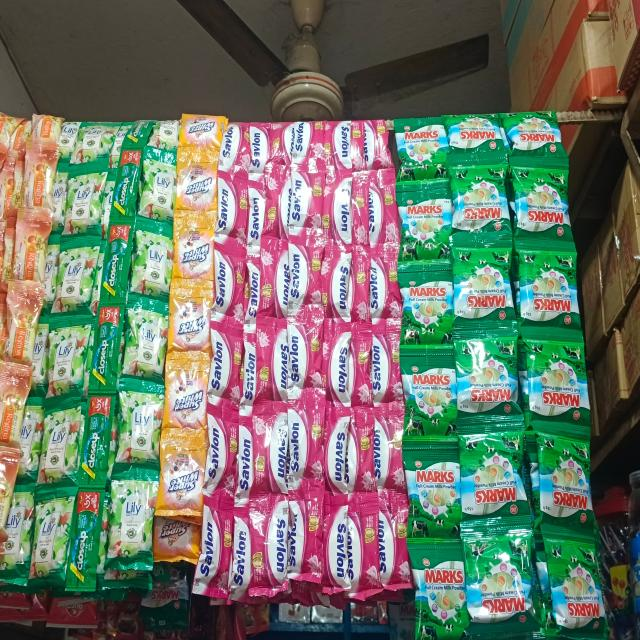non-ubl: (161, 343, 213, 423), (160, 429, 208, 511), (167, 276, 216, 350), (173, 146, 220, 222), (172, 207, 220, 280), (194, 504, 231, 598), (254, 504, 293, 593), (286, 406, 324, 486), (374, 506, 408, 590), (290, 323, 325, 400), (152, 513, 201, 564), (324, 512, 353, 596), (236, 422, 268, 498), (205, 419, 236, 495), (320, 255, 355, 322), (212, 253, 244, 325), (326, 414, 355, 493), (210, 334, 242, 405), (370, 331, 400, 405), (290, 173, 322, 239), (246, 182, 277, 250), (290, 243, 318, 318), (324, 122, 366, 171), (332, 176, 361, 244), (329, 331, 355, 405), (368, 255, 398, 318), (366, 180, 396, 242), (178, 113, 225, 152), (243, 331, 267, 402), (250, 260, 278, 320), (218, 178, 241, 246), (223, 112, 245, 182), (247, 125, 276, 177), (372, 415, 391, 488), (289, 121, 320, 165)
ubl: (112, 478, 152, 568), (44, 321, 94, 392), (38, 404, 83, 477), (68, 490, 100, 587), (121, 310, 168, 376), (3, 494, 36, 583), (116, 398, 163, 459), (64, 170, 110, 232), (53, 246, 100, 305), (34, 496, 66, 581), (91, 307, 124, 385), (138, 158, 178, 221), (131, 232, 172, 292), (83, 397, 109, 487), (75, 112, 115, 164), (104, 227, 127, 304), (113, 148, 135, 222)
